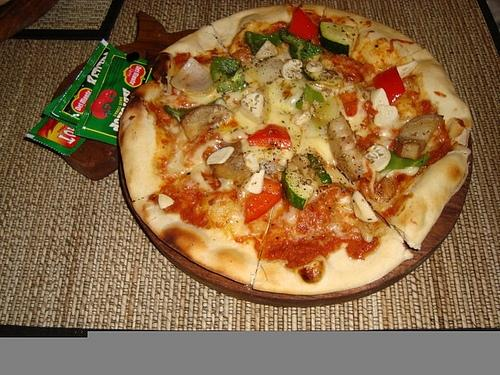mushroom: (327, 115, 364, 180), (180, 104, 235, 142), (211, 140, 254, 188), (398, 115, 444, 153), (352, 190, 378, 222), (365, 145, 391, 171), (244, 169, 265, 194), (282, 58, 304, 80), (255, 41, 278, 58), (379, 177, 396, 200)
vegetable marrow: (281, 168, 318, 210), (318, 21, 358, 56)
